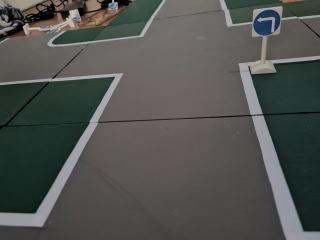left: (248, 3, 286, 39)
